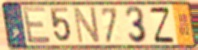3: (124, 5, 149, 45)
5: (48, 6, 73, 44)
7: (101, 7, 119, 44)
E: (21, 5, 53, 46)
N: (72, 5, 102, 45)
Z: (148, 6, 176, 45)
